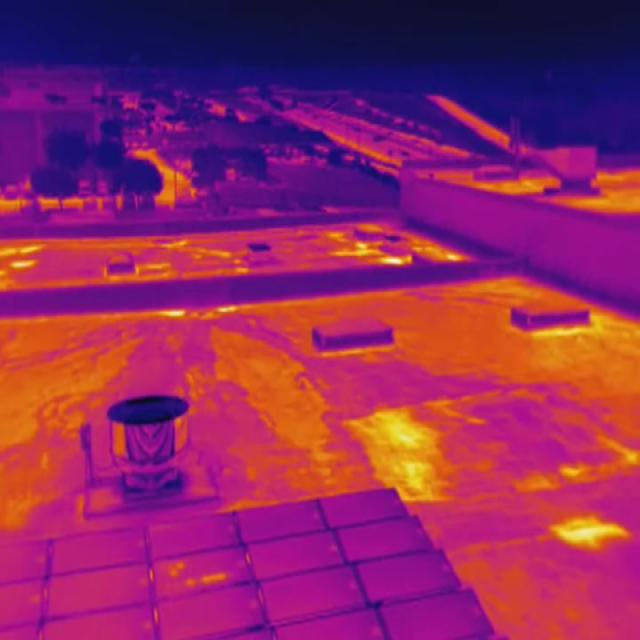Orange-Spots: (200, 572, 226, 585), (170, 560, 184, 579), (186, 577, 196, 588)
